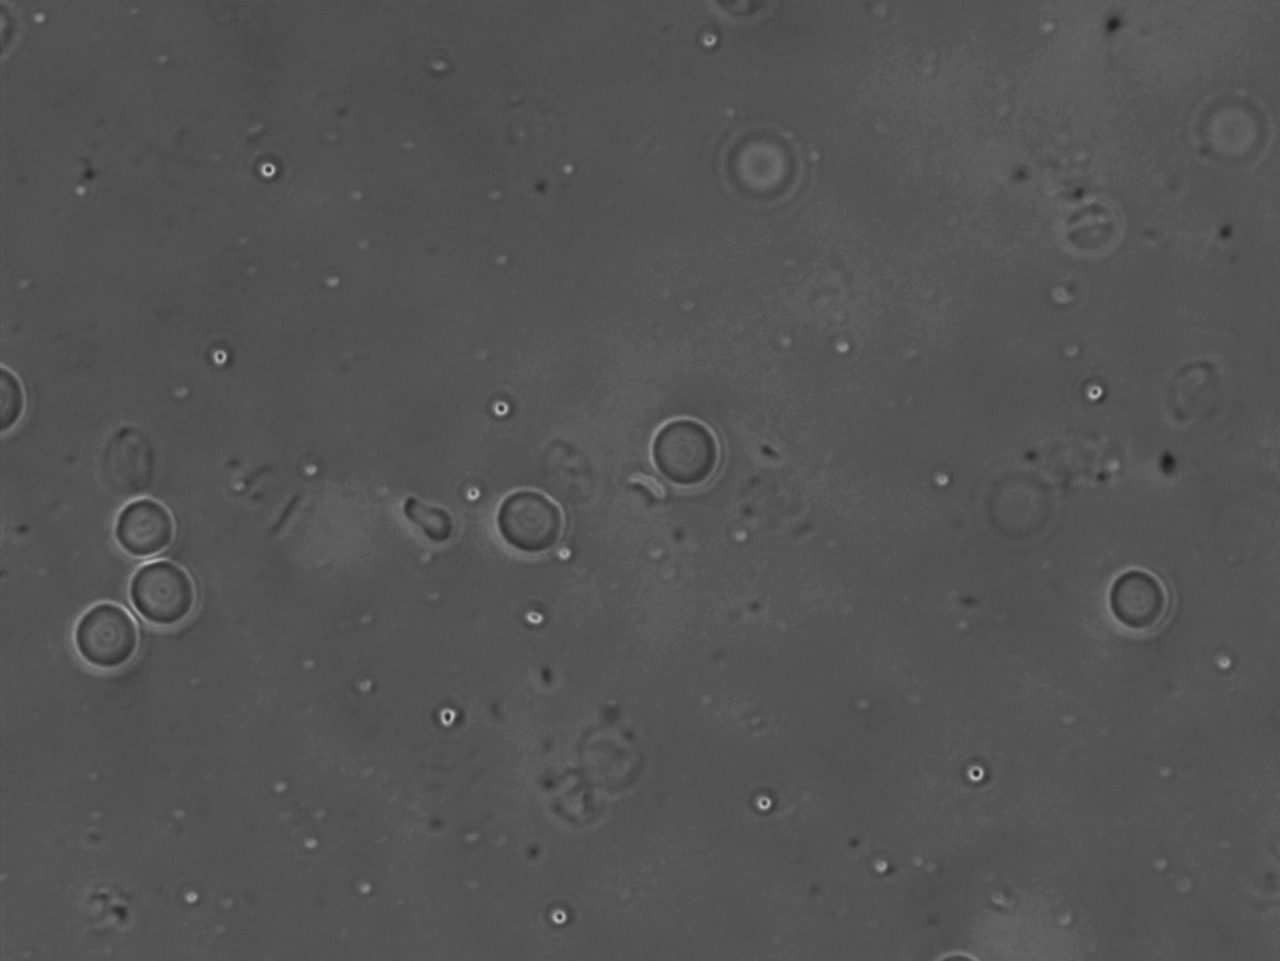depth:0: (640, 403, 737, 502), (113, 547, 217, 637), (52, 592, 143, 680), (481, 477, 568, 569), (1099, 557, 1183, 652), (103, 485, 186, 564)
